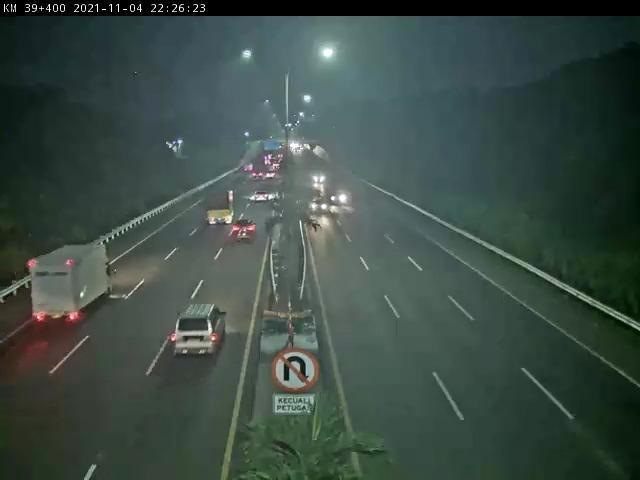car: (172, 304, 227, 360), (235, 221, 256, 242), (313, 197, 329, 214), (332, 190, 348, 205), (256, 191, 271, 204), (313, 171, 326, 184), (254, 171, 265, 180), (267, 170, 276, 178)
truck: (32, 245, 115, 325), (209, 190, 235, 224)
